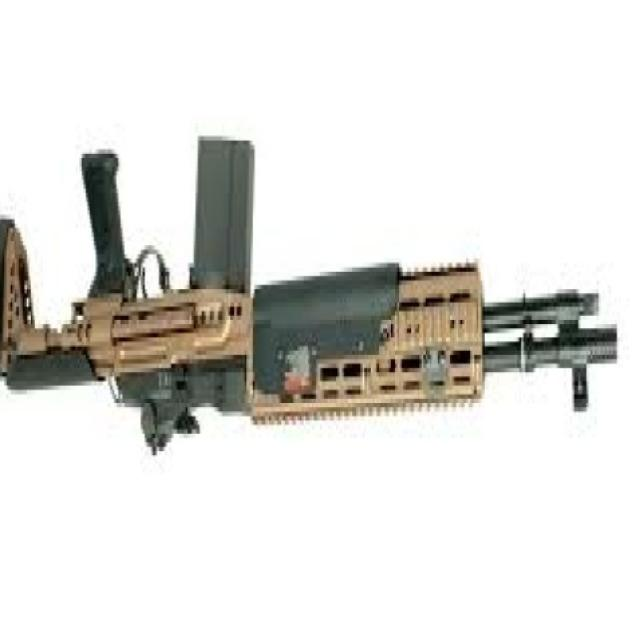Gun: (0, 120, 626, 461)
